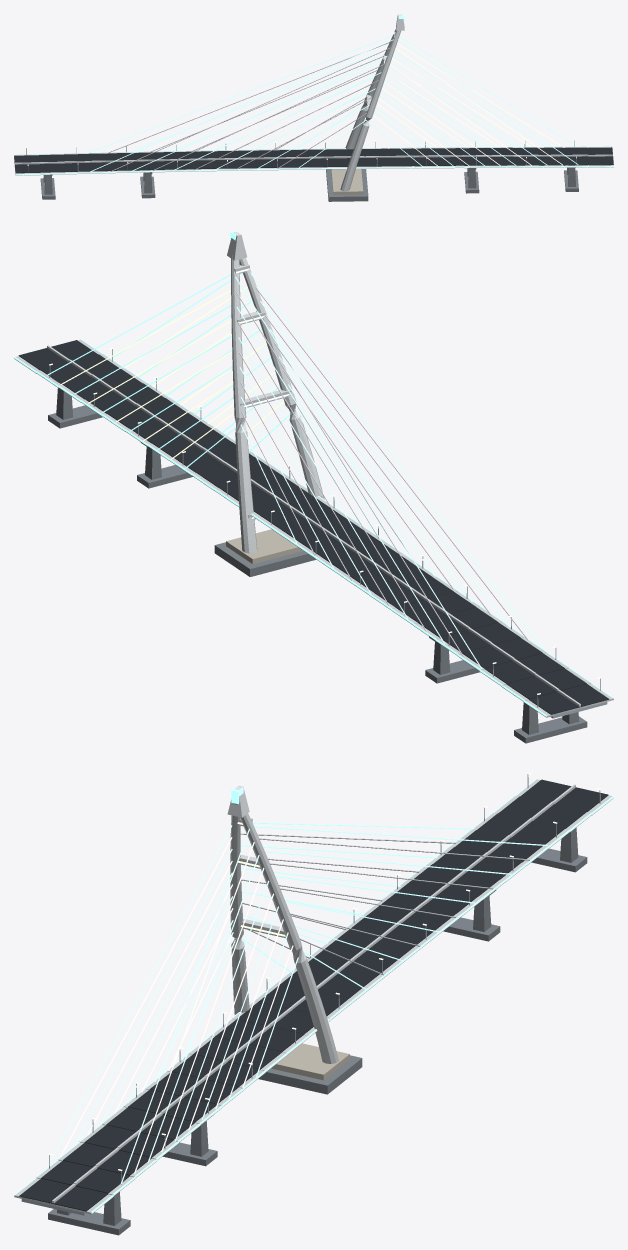
Rendered from cau_ba_son.glb.
3 views of the same model, one above another, from view 1: azimuth 30°, elevation 25°; view 2: azimuth 150°, elevation 25°; view 3: azimuth 270°, elevation 25° (orthographic). The views are drawn at different scales.
Parts seen in each view (by area): view 1: cau_ba_son; view 2: cau_ba_son; view 3: cau_ba_son.
Part boxes in pixels (<box>): cau_ba_son: <box>14,14,613,201</box>; cau_ba_son: <box>14,230,613,743</box>; cau_ba_son: <box>14,772,613,1235</box>.
Bounding box in the file's own units: 331 × 113 × 194.
